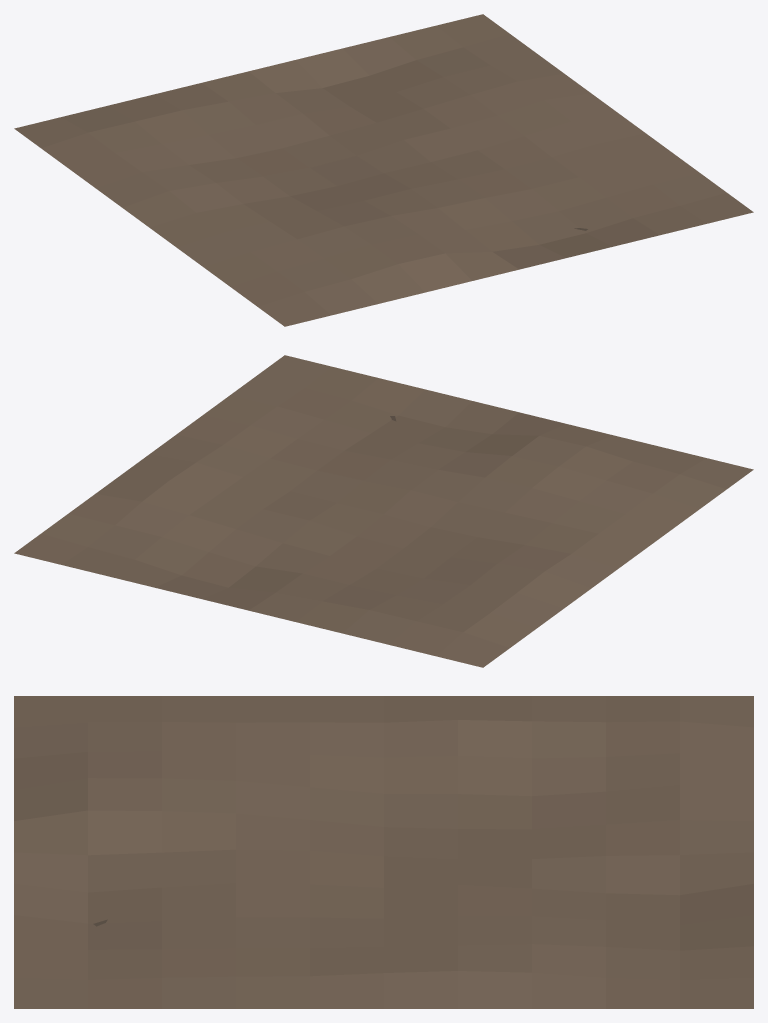
File: mud_lowpoly_b.glb
3 views of the same model, one above another, from view 1: azimuth 30°, elevation 25°; view 2: azimuth 150°, elevation 25°; view 3: azimuth 270°, elevation 25° (orthographic). The views are drawn at different scales.
Visible parts, largest first — view 1: MudTile; view 2: MudTile; view 3: MudTile.
Part boxes in pixels (x1,y1,x2,y2): MudTile: [14, 14, 753, 326]; MudTile: [14, 355, 753, 667]; MudTile: [14, 696, 753, 1008].
Bounding box in the file's own units: 1 × 0.0347 × 1.
